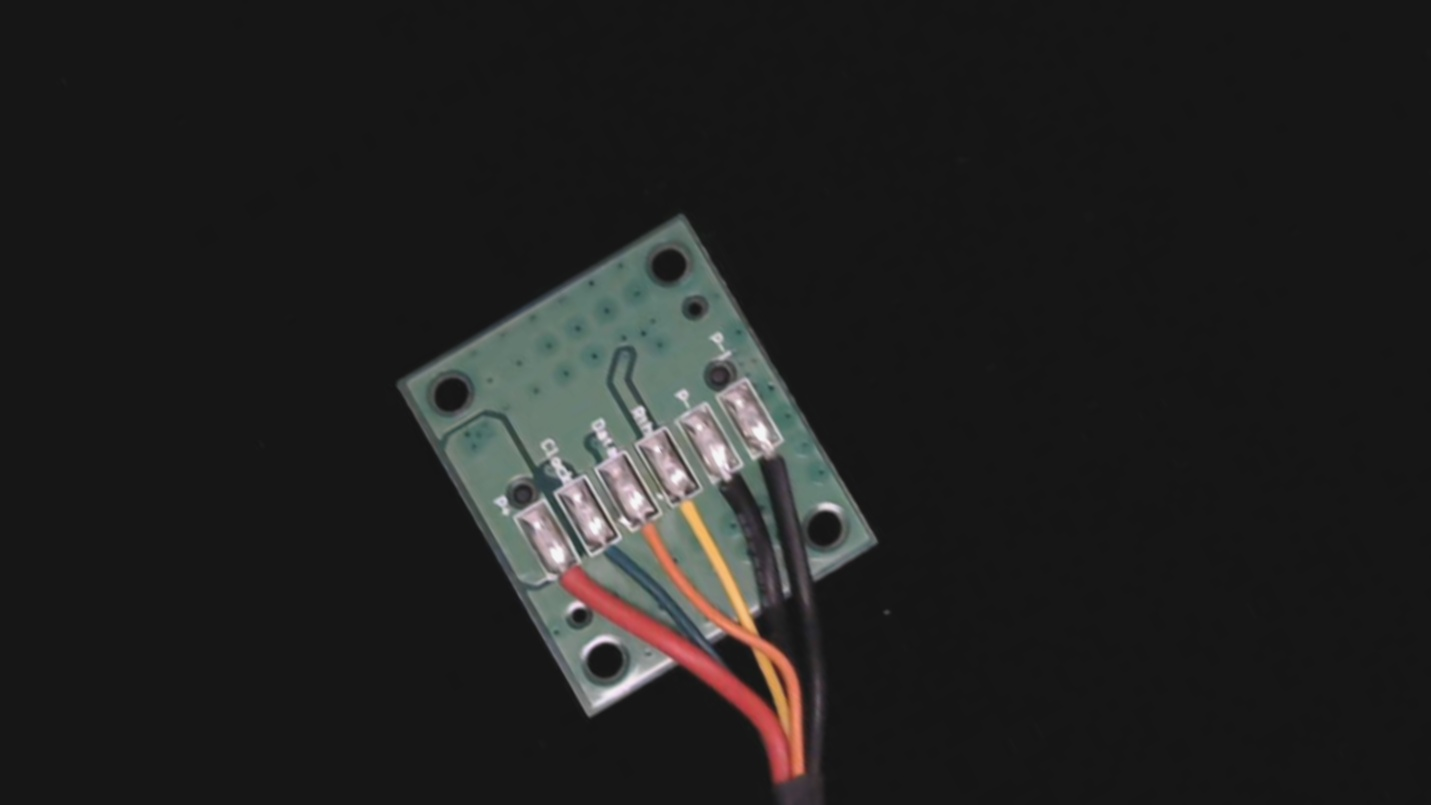Black: (693, 446, 781, 544)
Black1: (739, 422, 821, 513)
Green: (575, 514, 650, 595)
Orange: (614, 493, 699, 588)
Red: (530, 541, 616, 635)
Yellow: (652, 470, 741, 568)
